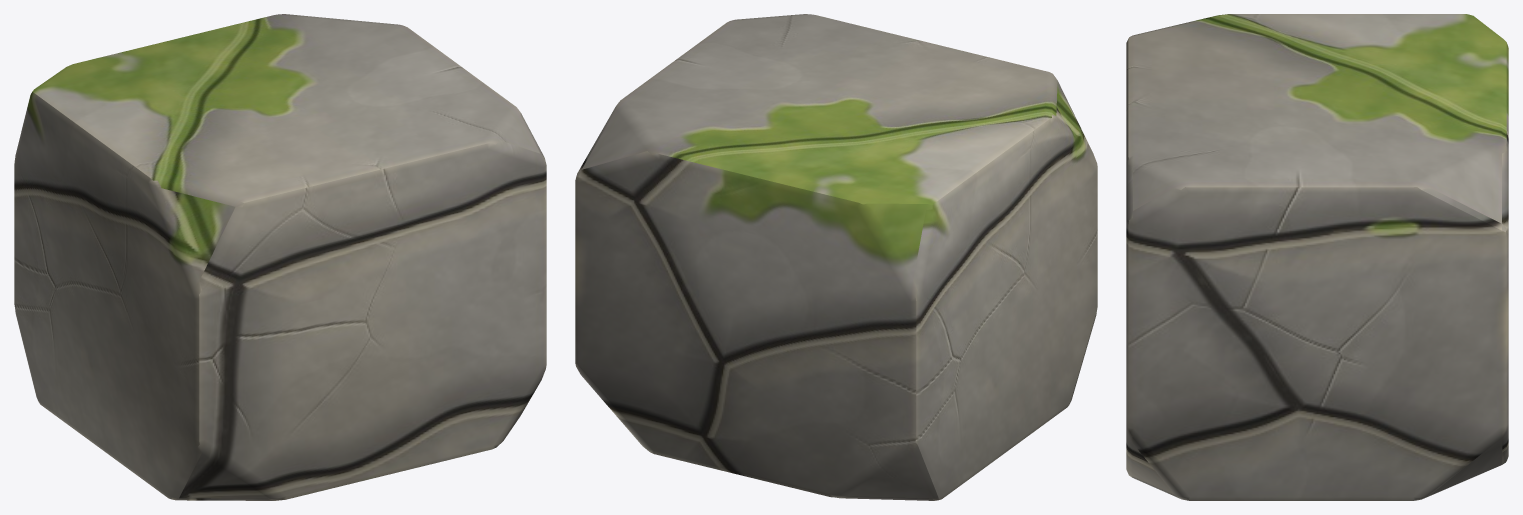
The model's file is rock_small_a.glb.
3 renders of one model, left to right at view 1: azimuth 30°, elevation 25°; view 2: azimuth 150°, elevation 25°; view 3: azimuth 270°, elevation 25°, orthographic. The views are drawn at different scales.
Parts seen in each view (by area): view 1: Rock_small_a; view 2: Rock_small_a; view 3: Rock_small_a.
Part boxes in pixels (x1,y1,x2,y2): Rock_small_a: [14, 14, 546, 500]; Rock_small_a: [575, 14, 1097, 500]; Rock_small_a: [1126, 14, 1508, 500].
Size of the model in its own units: 0.65 by 0.55 by 0.6.
1 material, 1 textured.
